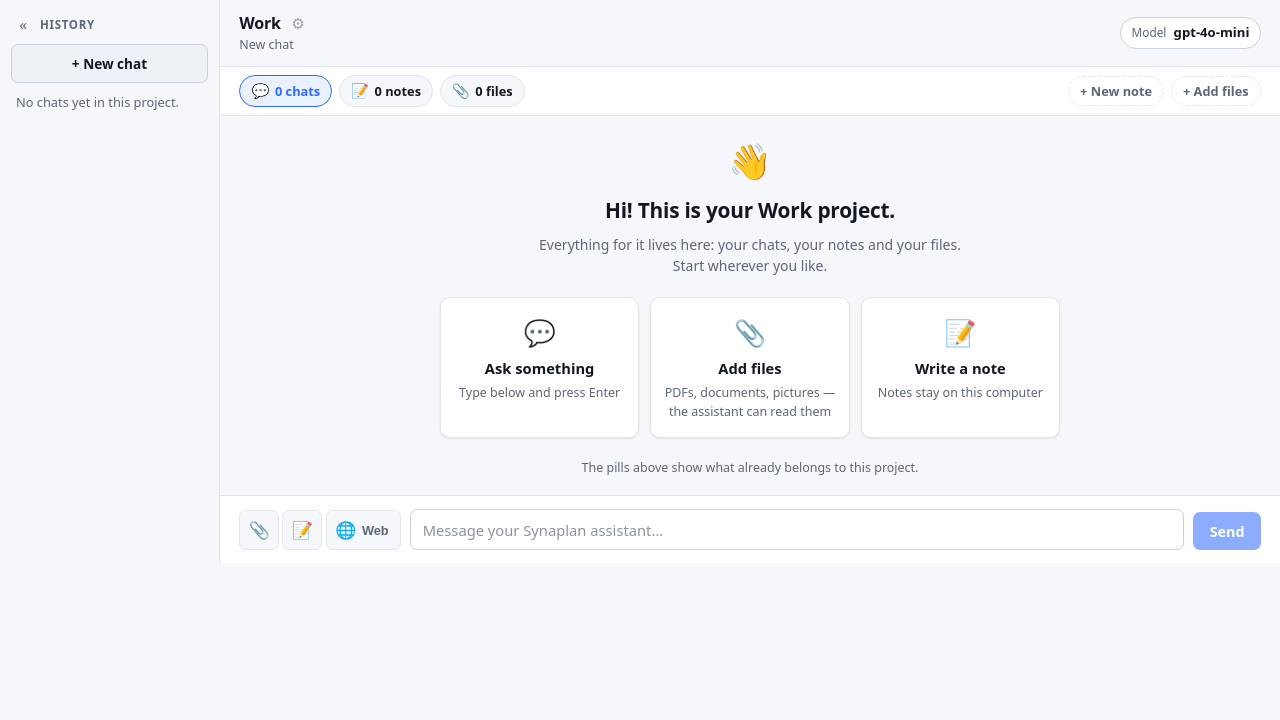
Test: ChatView › writes a new note from the composer and opens it next to the chat
This screenshot has width=1280, height=720.
Expected: the button with test id "pill-notes" shows "0 notes", x1=339 y1=75 x2=433 y2=107
Click the button with test id "composer-new-note" at (302, 530), box x1=282 y1=510 x2=322 y2=550
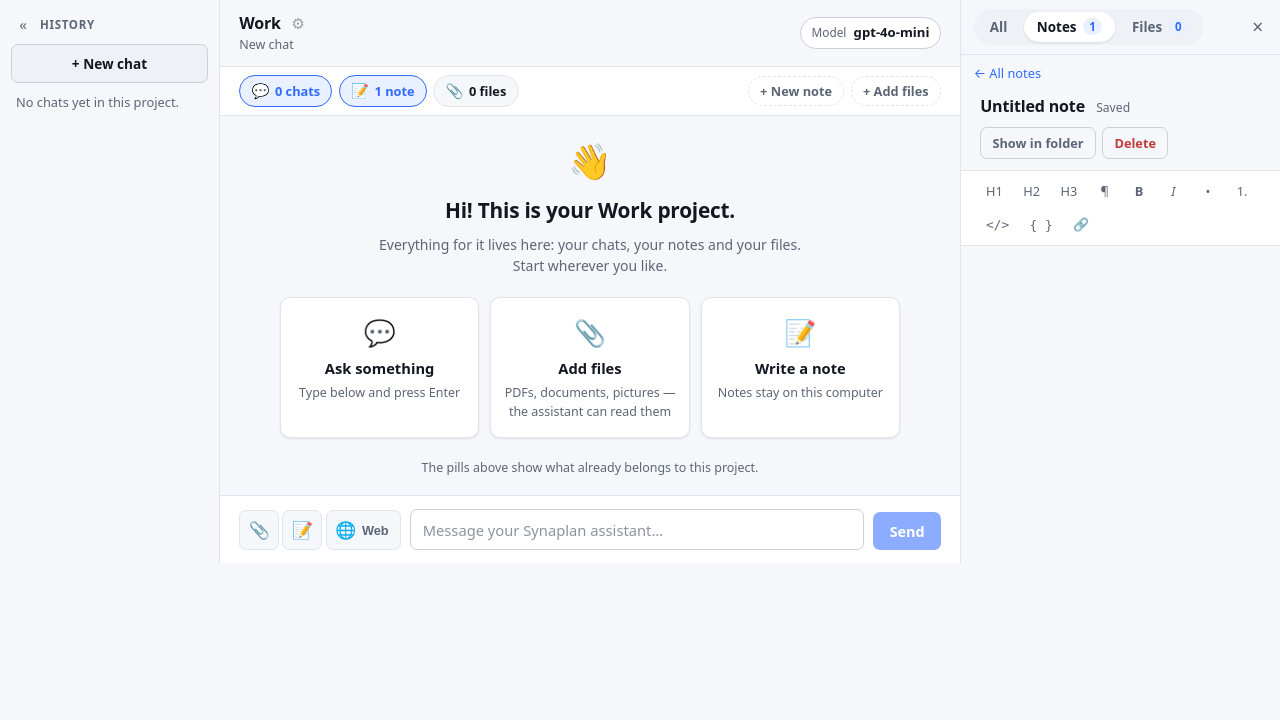
Expected: the element with test id "note-editor" is shown, x1=961 y1=83 x2=1279 y2=563
Expected: the button with test id "pill-notes" shows "1 note", x1=339 y1=75 x2=427 y2=107
Click the button with test id "panel-note-back" at (1007, 73), box x1=974 y1=64 x2=1041 y2=83
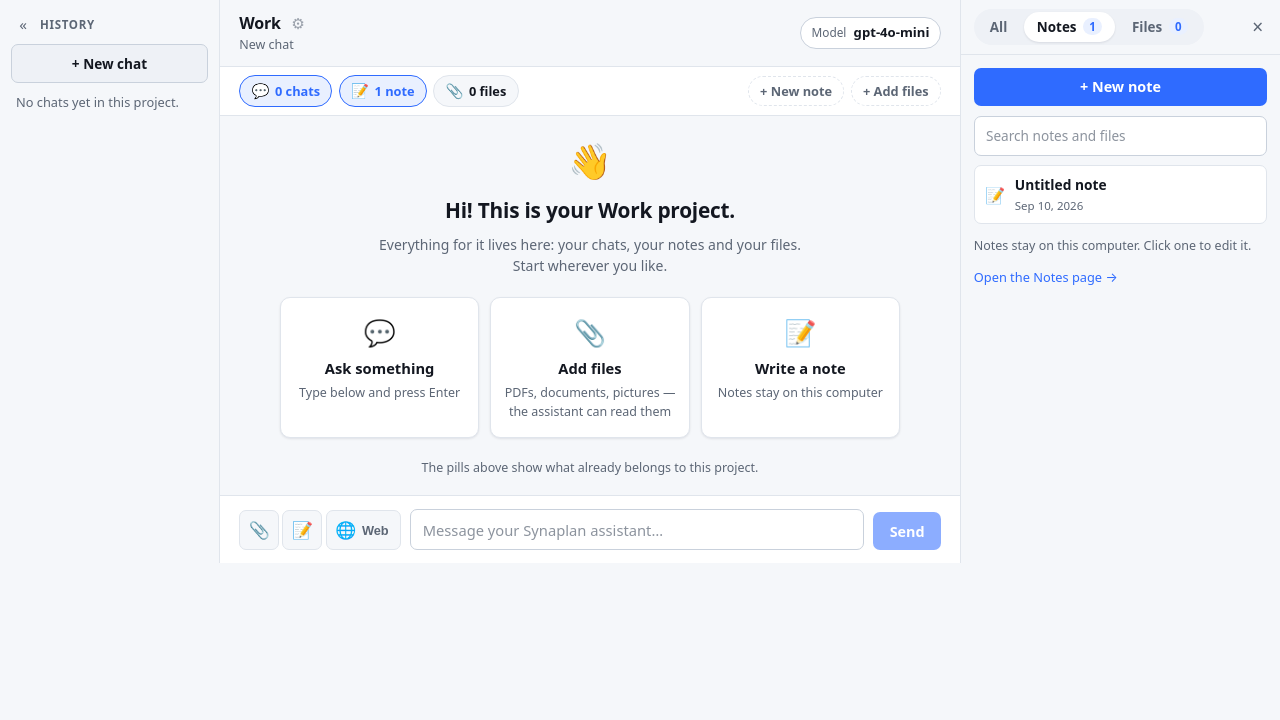
Expected: the button with test id "panel-new-note" is shown, x1=974 y1=68 x2=1267 y2=106
